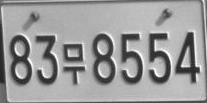3: (35, 34, 58, 84)
4: (173, 31, 201, 84)
5: (120, 32, 144, 84), (148, 31, 171, 84)
8: (91, 32, 116, 83), (9, 33, 32, 84)
무: (62, 43, 85, 85)
